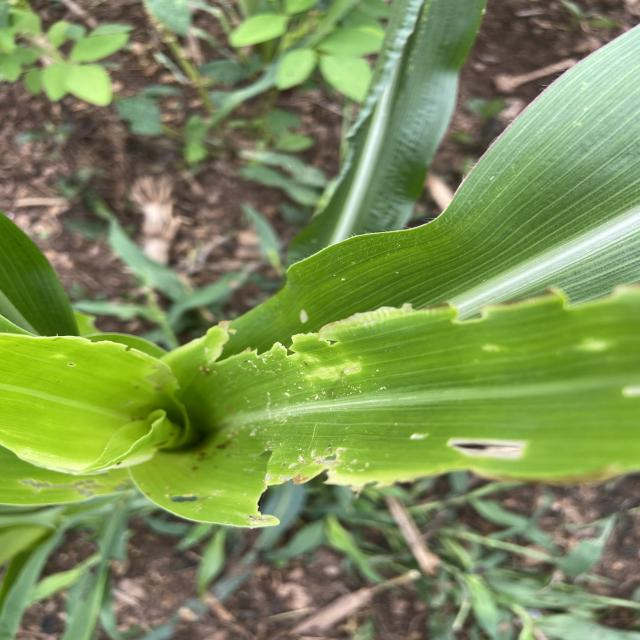fall-armyworm-egg: (210, 358, 391, 472)
fall-armyworm-larval-damage: (196, 424, 535, 533), (150, 313, 409, 400), (421, 284, 640, 342)
